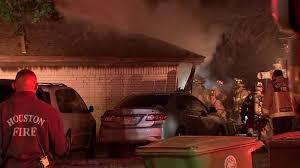smoke: (48, 0, 257, 98)
